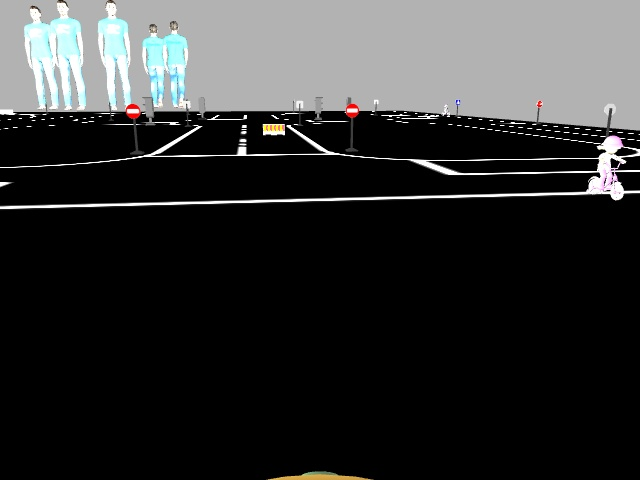ClosedRoadStand: (587, 135, 624, 200), (263, 125, 284, 134)
NoEntry: (125, 104, 141, 120), (343, 104, 357, 117)
